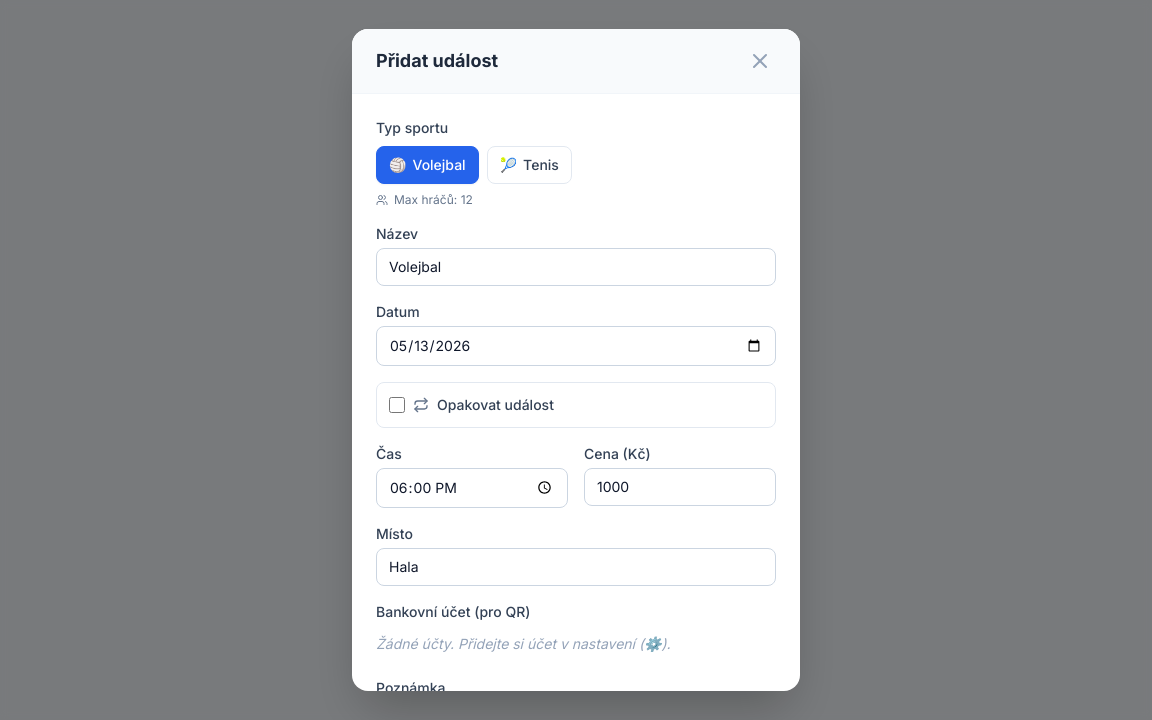
it: CreateEventModal — Recurrence until-date mode › preview text and submit button reflect the live computed count for both frequencies
Click the checkbox with test id "recurrence-toggle": (397, 405) 389,397 -> 405,413
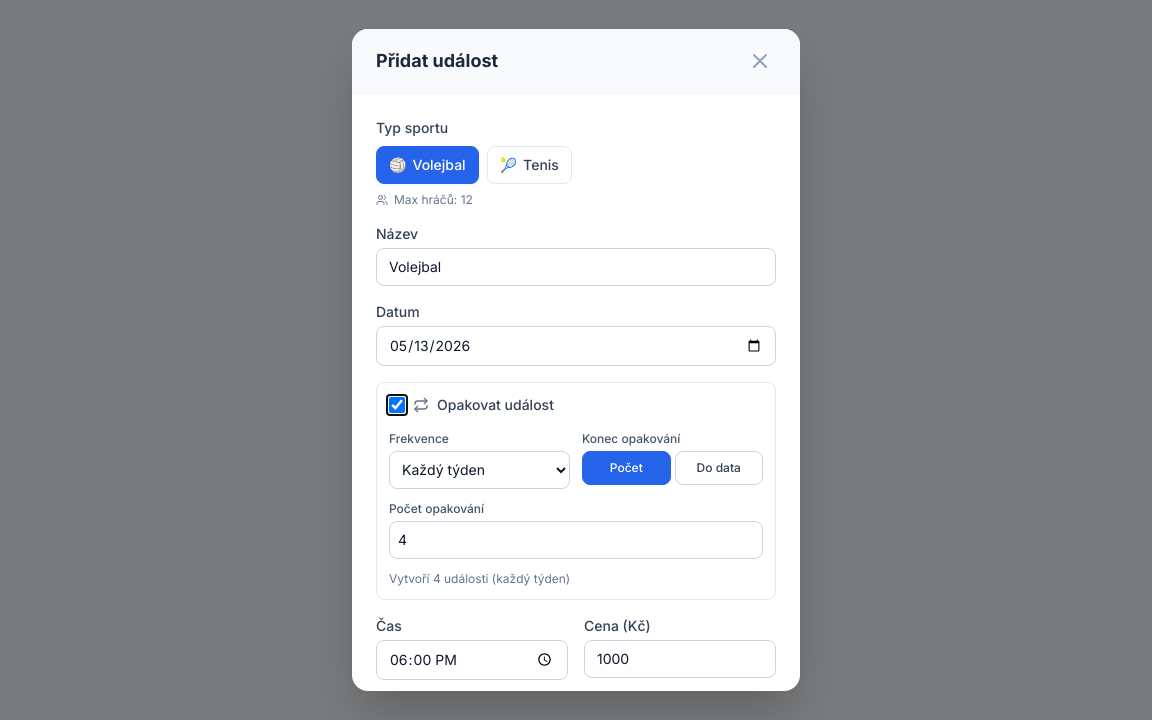
Click the button with test id "recurrence-mode-until": (719, 468) 674,451 -> 763,485
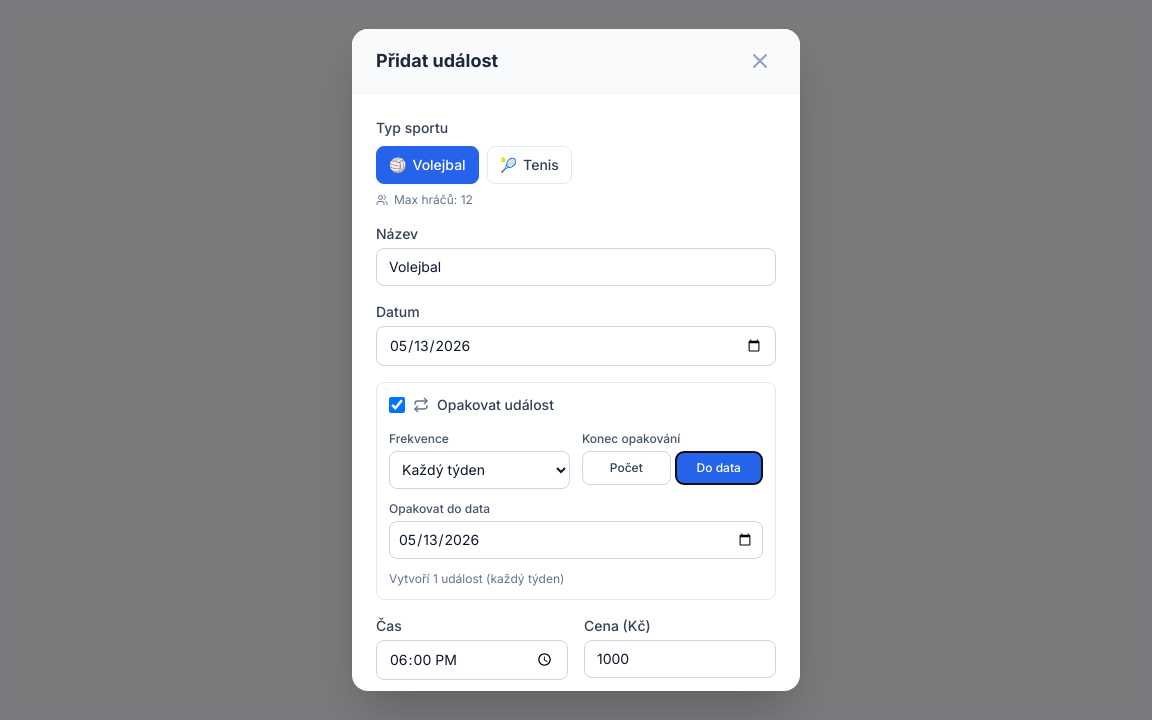
In the date field with test id "recurrence-until-date": (576, 540) 389,521 -> 763,559, type "2026-06-03"
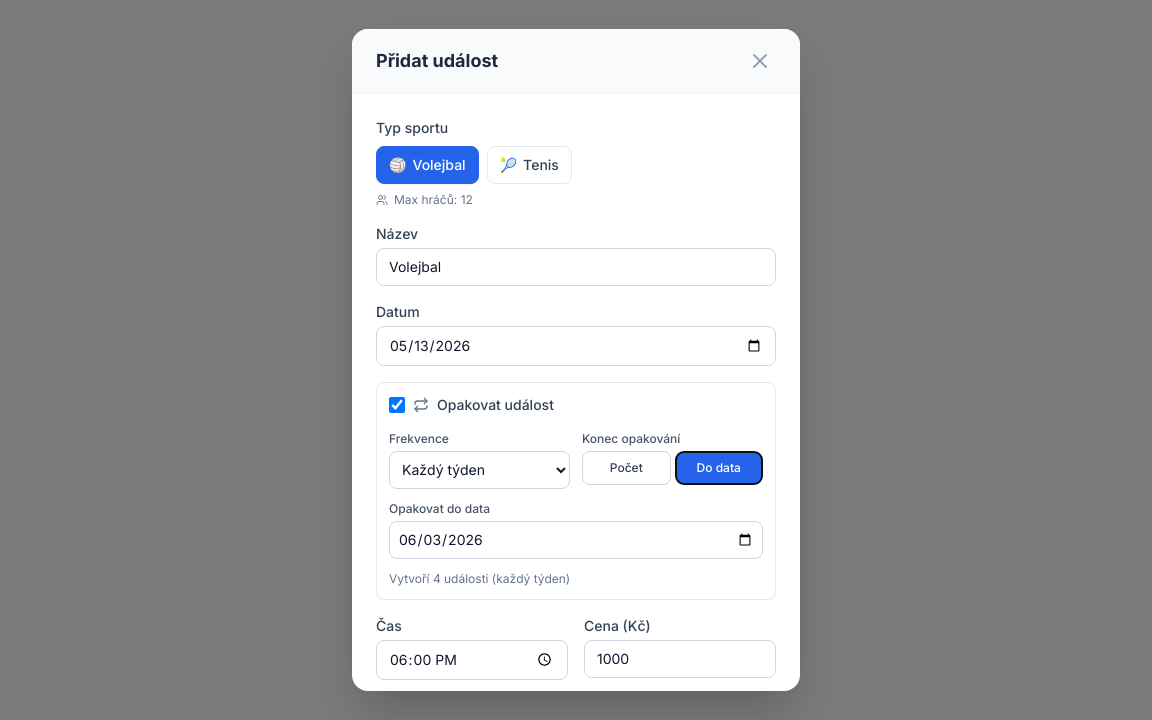
Check: the text with test id "recurrence-preview" shows "Vytvoří 4", box 389,571 -> 570,586
Select "Každé 2 týdny" in the dropdown with test id "recurrence-frequency": (480, 470) 389,451 -> 570,489
(page scrolled)
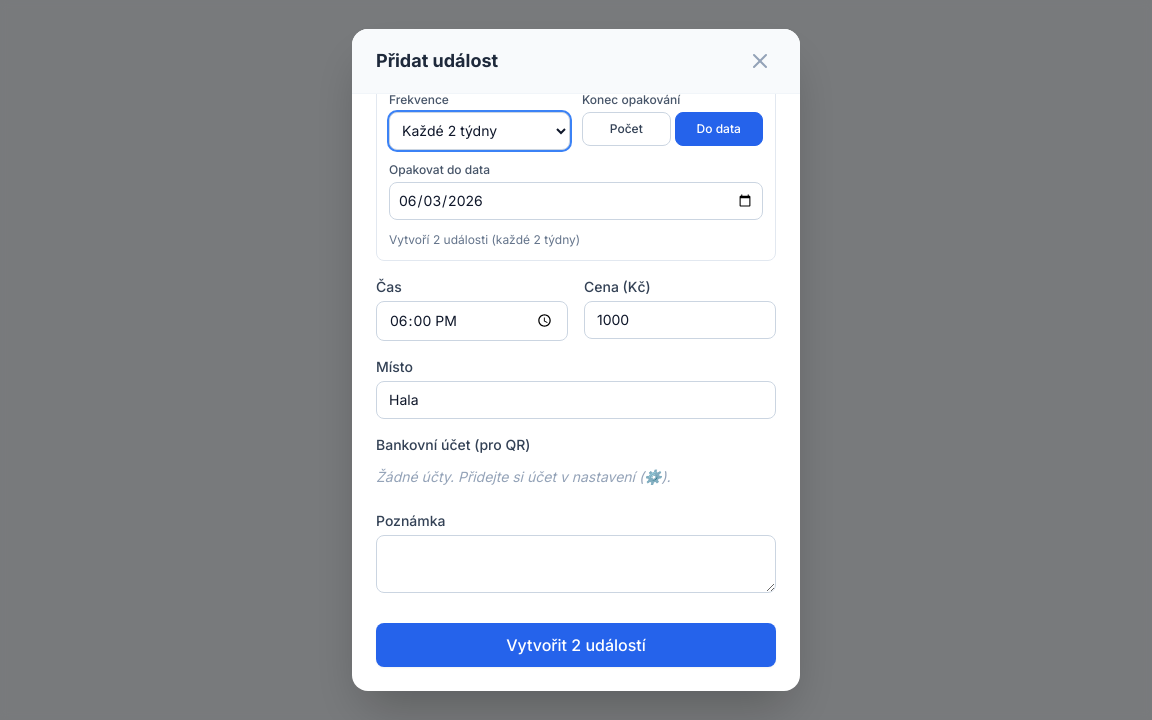
Check: the text with test id "recurrence-preview" shows "Vytvoří 2", box 389,232 -> 580,247
Check: the button "Vytvořit 2 událostí" is shown, box 376,623 -> 776,667
